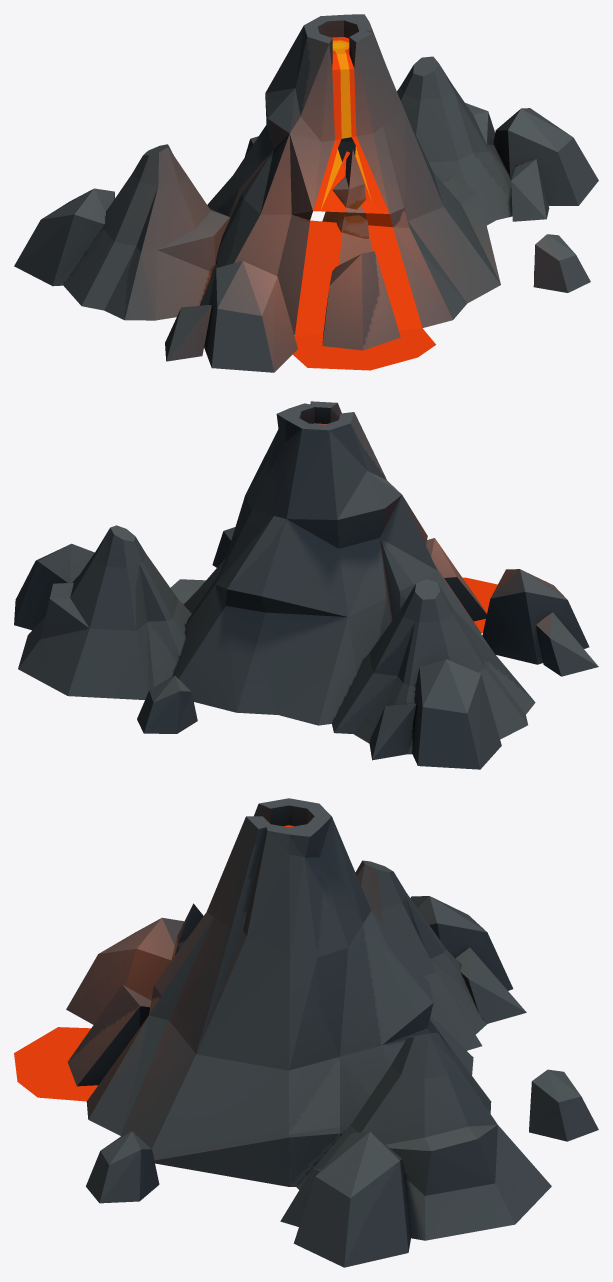
Rendered from volcan.glb.
The picture shows the model from 3 angles, top to bottom: view 1: azimuth 30°, elevation 25°; view 2: azimuth 150°, elevation 25°; view 3: azimuth 270°, elevation 25°; orthographic projection. The views are drawn at different scales.
Parts seen in each view (by area): view 1: Object_2; view 2: Object_2; view 3: Object_2.
Boxes of the visible parts, x1=… form: Object_2: x1=14, y1=14, x2=598, y2=372; Object_2: x1=14, y1=401, x2=598, y2=769; Object_2: x1=14, y1=798, x2=598, y2=1267.
Size of the model in its own units: 2 by 0.8637 by 1.61.
1 material, 1 textured.
